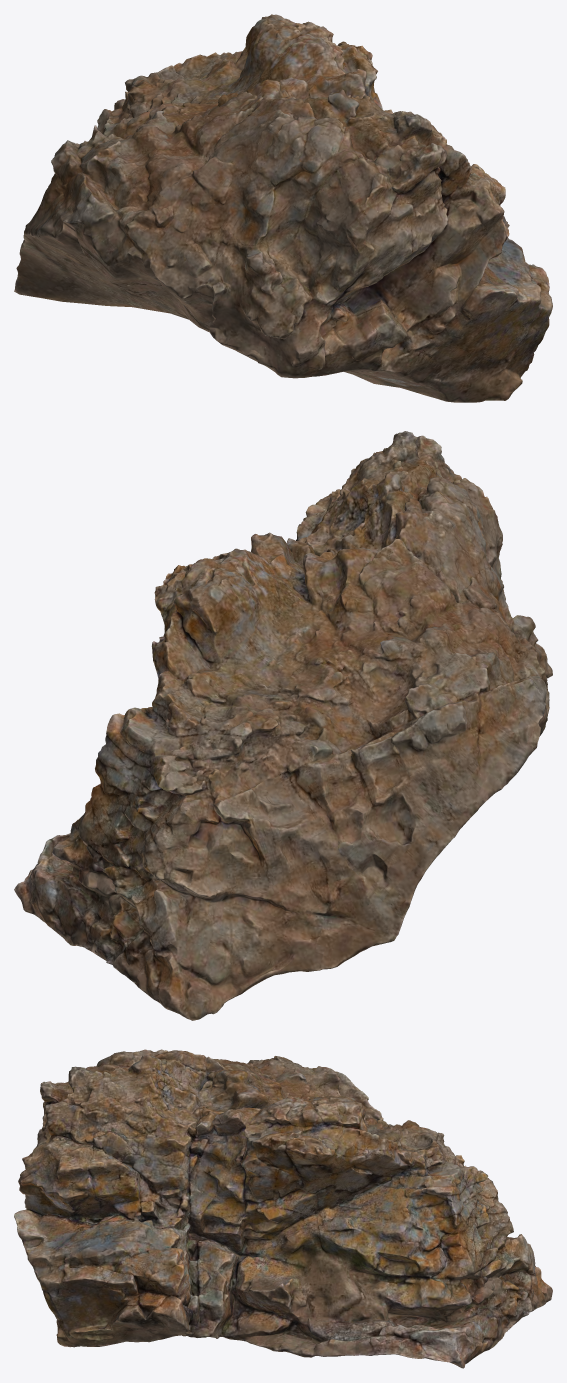
The model's file is boulder_01.glb.
3 renders of one model, top to bottom at view 1: azimuth 30°, elevation 25°; view 2: azimuth 150°, elevation 25°; view 3: azimuth 270°, elevation 25°, orthographic. The views are drawn at different scales.
Parts seen in each view (by area): view 1: boulder_01; view 2: boulder_01; view 3: boulder_01.
Boxes of the visible parts, x1,y1,x2,y2 form: boulder_01: (14, 14, 552, 402); boulder_01: (14, 431, 552, 1020); boulder_01: (14, 1049, 552, 1368).
Bounding box in the file's own units: 1.27 × 1 × 1.83.
1 material, 1 textured.
